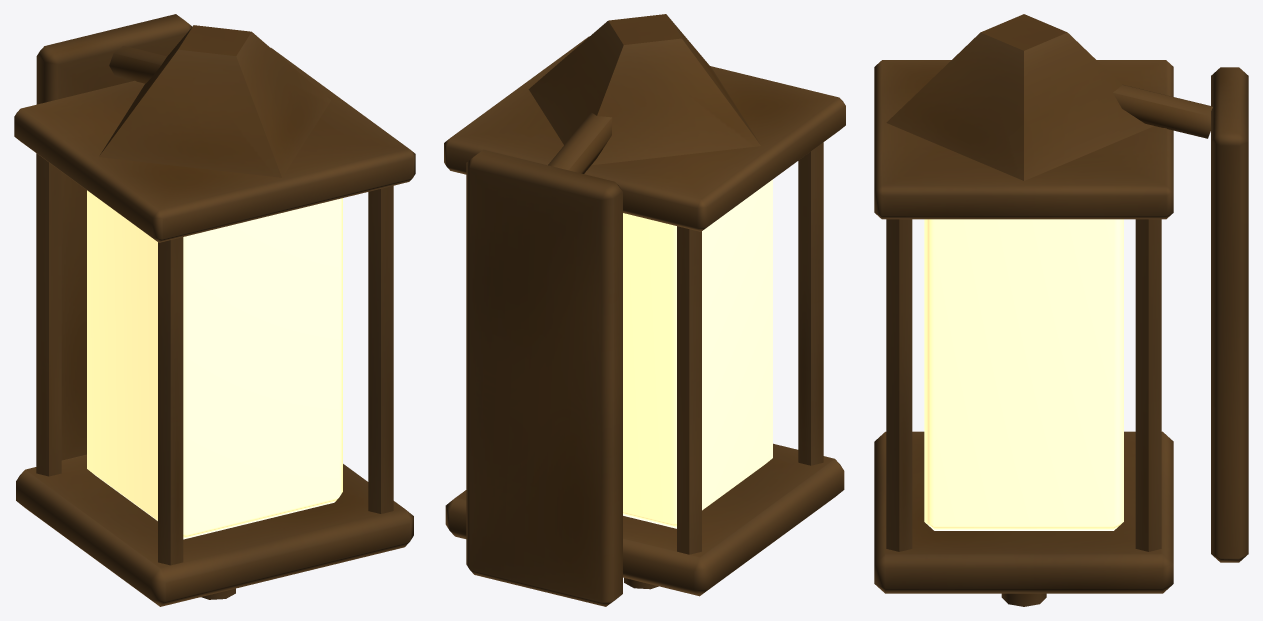
File: Furn_Bath_WallLantern.fbx
The picture shows the model from 3 angles, left to right: view 1: azimuth 30°, elevation 25°; view 2: azimuth 150°, elevation 25°; view 3: azimuth 270°, elevation 25°; orthographic projection. The views are drawn at different scales.
Parts seen in each view (by area): view 1: Furn_Bath_WallLantern; view 2: Furn_Bath_WallLantern; view 3: Furn_Bath_WallLantern.
Part boxes in pixels (x1,y1,x2,y2): Furn_Bath_WallLantern: (14, 14, 415, 606); Furn_Bath_WallLantern: (444, 14, 845, 606); Furn_Bath_WallLantern: (874, 14, 1248, 606).
Bounding box in the file's own units: 0.25 × 0.5 × 0.3.
2 materials, 1 textured.
